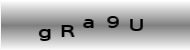9: (106, 15, 119, 29)
R: (59, 24, 77, 38)
U: (129, 18, 144, 32)
a: (82, 18, 95, 29)
g: (38, 27, 52, 43)
